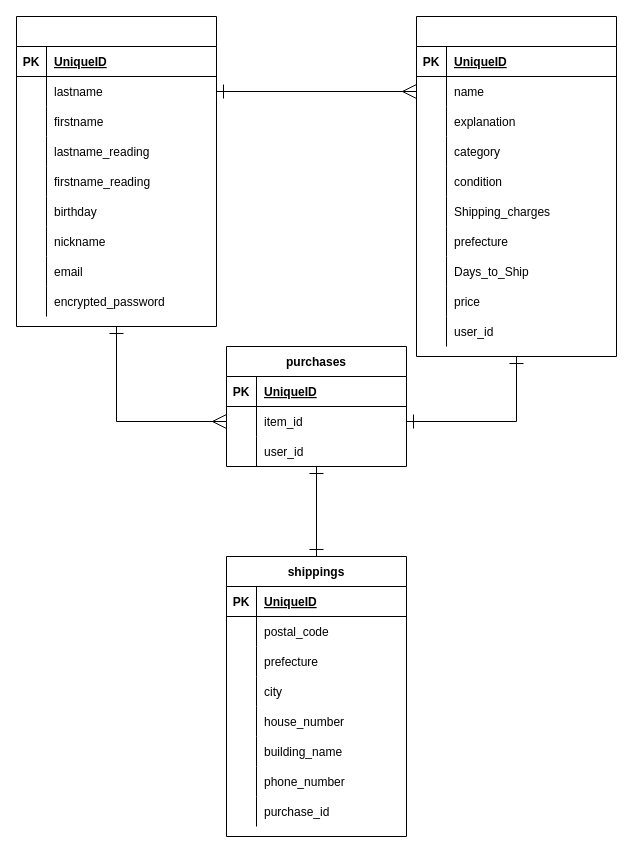
This 633x853 diagram has some shape labels left out. Here are the shapes that lost their labels. From the top down, the box of each, then its label:
(16, 16, 216, 326): users
(416, 16, 616, 356): items
